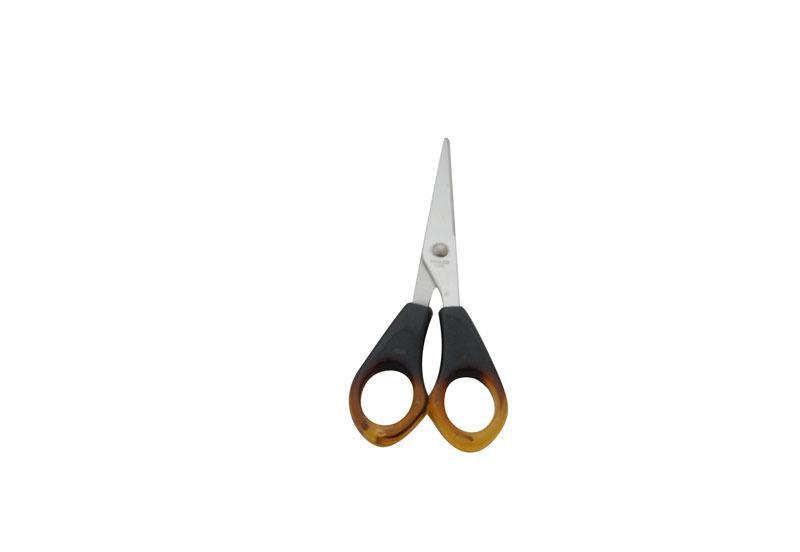scissor: (285, 125, 584, 476)
